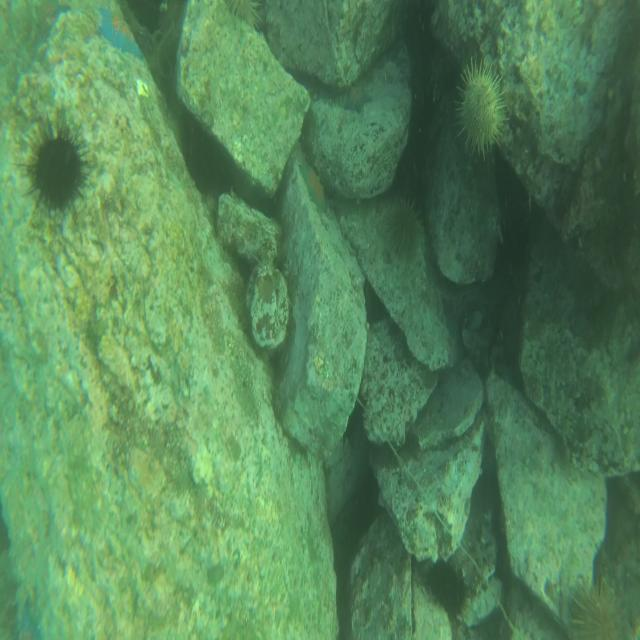echinus: (26, 116, 85, 208), (458, 62, 511, 155), (574, 566, 630, 640), (386, 191, 426, 261), (225, 0, 269, 28)
starfish: (94, 2, 146, 58), (299, 158, 329, 208)
